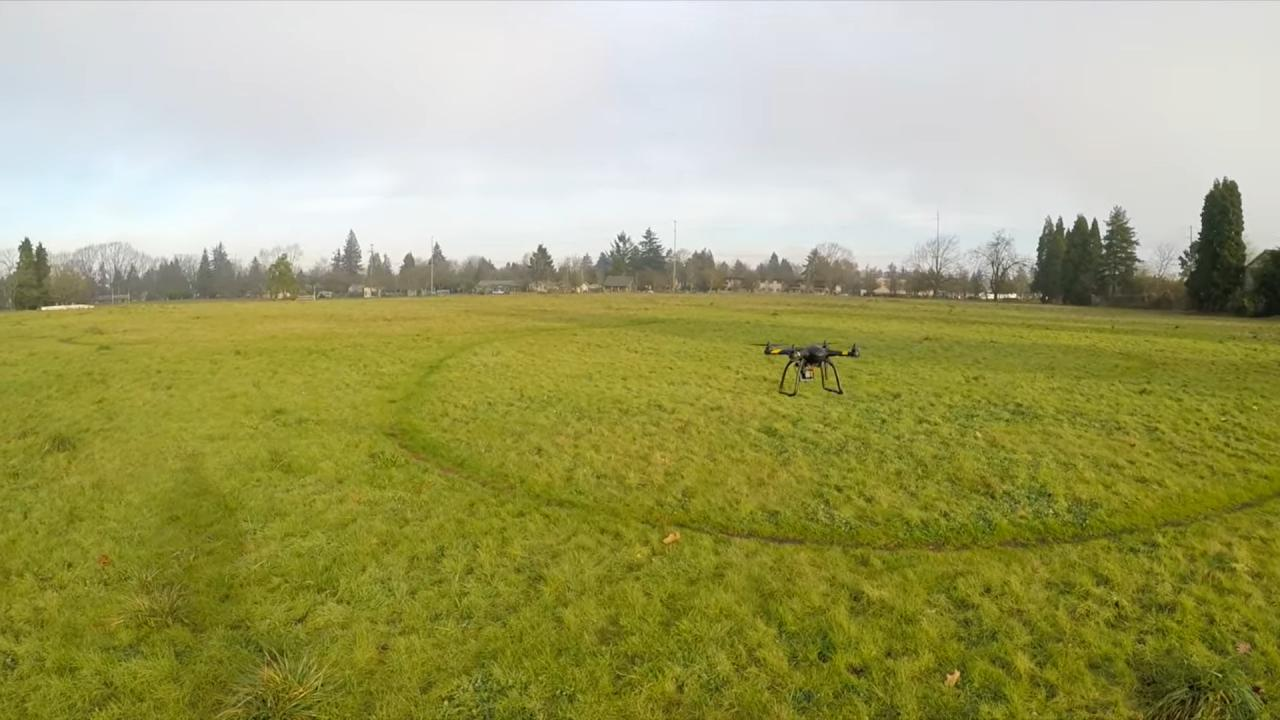Drone: (744, 331, 870, 404)
